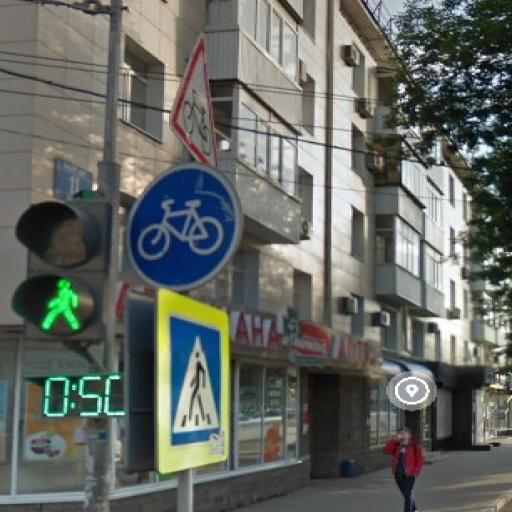traffic_sign: (123, 164, 245, 292), (157, 285, 234, 478), (169, 34, 221, 170)
